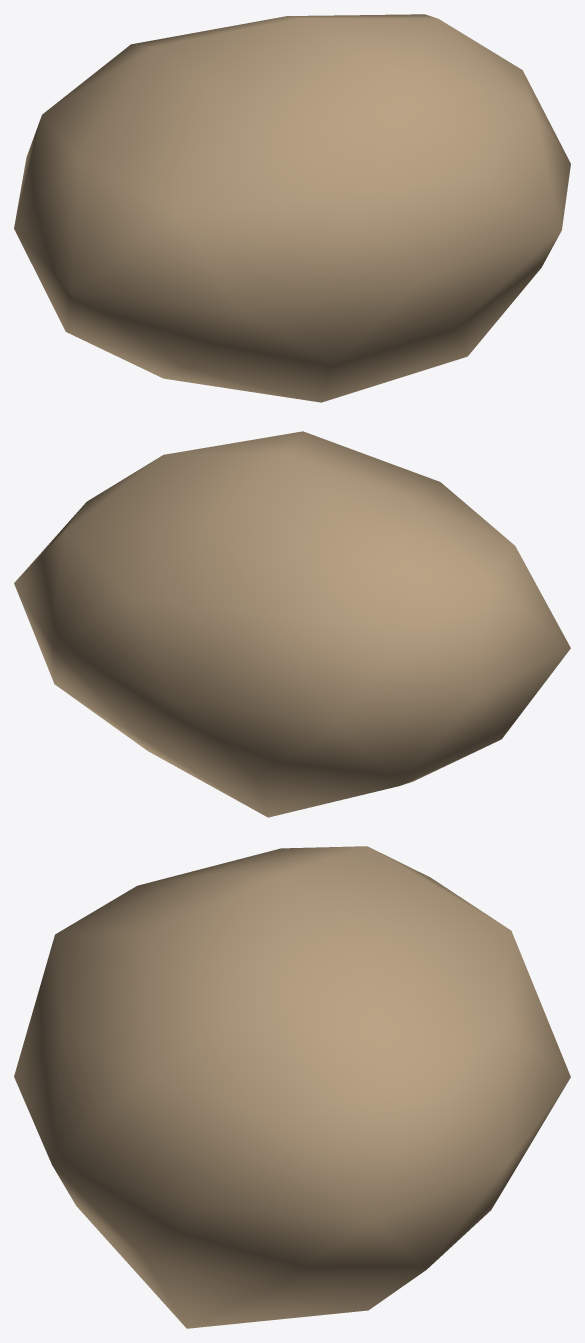
Rendered from RUBBEL_KIESEL_2.glb.
3 views of the same model, one above another, from view 1: azimuth 30°, elevation 25°; view 2: azimuth 150°, elevation 25°; view 3: azimuth 270°, elevation 25° (orthographic). The views are drawn at different scales.
Visible parts, largest first — view 1: RUBBEL_KIESEL_2; view 2: RUBBEL_KIESEL_2; view 3: RUBBEL_KIESEL_2.
Part boxes in pixels (bbox=[...]): RUBBEL_KIESEL_2: bbox=[14, 14, 570, 402]; RUBBEL_KIESEL_2: bbox=[14, 431, 570, 817]; RUBBEL_KIESEL_2: bbox=[14, 846, 570, 1328].
Size of the model in its own units: 0.457 by 0.2948 by 0.3634.
